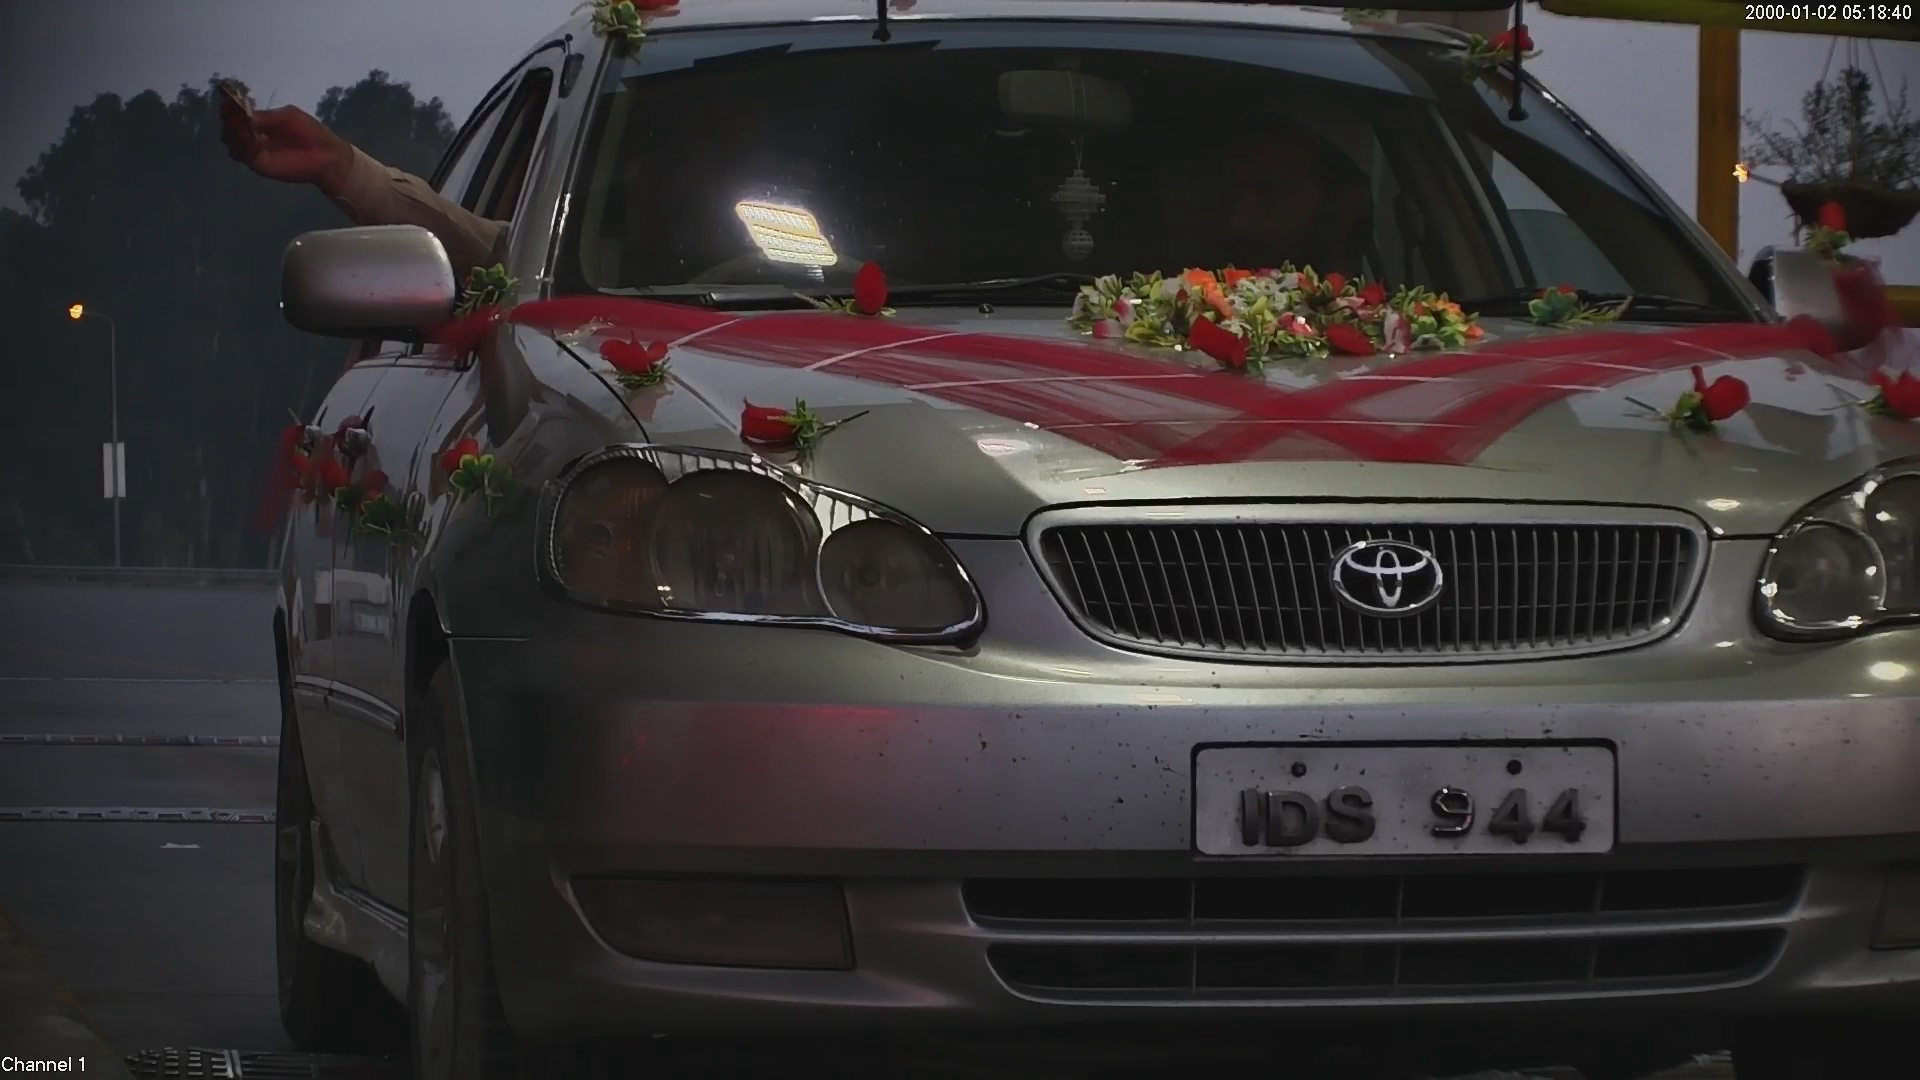Number_Plate: (1177, 723, 1633, 876)
